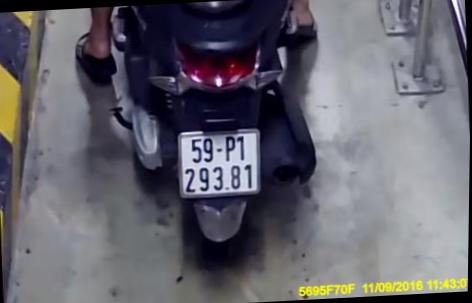LP: (176, 126, 264, 199)
